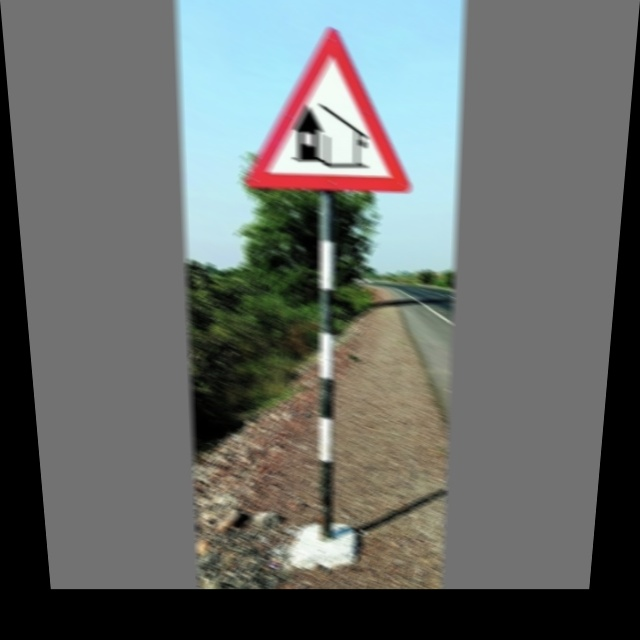Barrier_Ahead: (247, 31, 412, 189)
